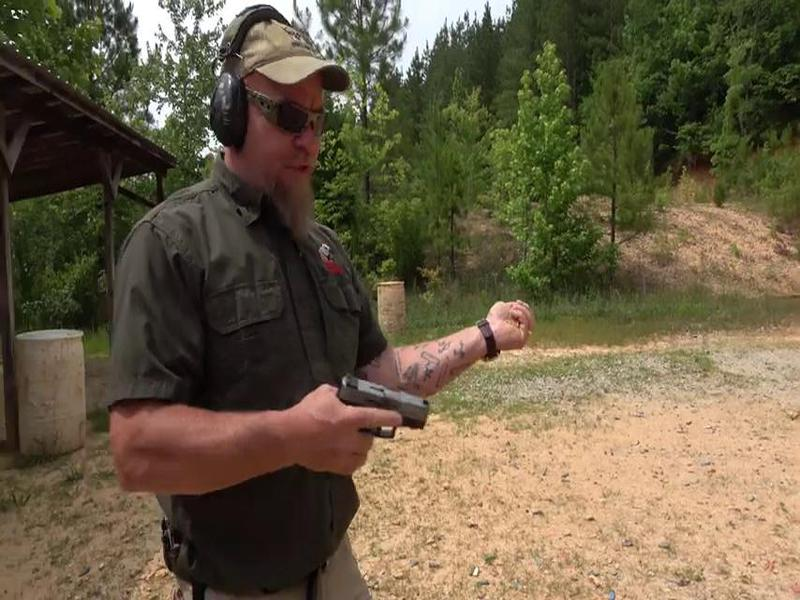Pistola: (306, 366, 455, 467)
